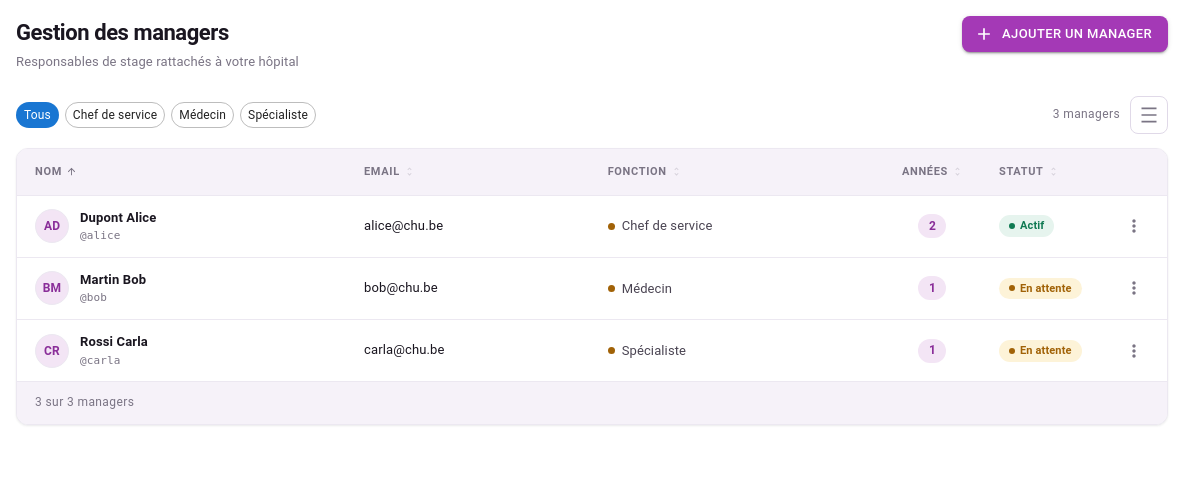
Test case: HospitalAdminManagersPage › 3-dot menu shows 'Renvoyer l'invitation' only for pending managers
Expected: the text "Martin Bob" is shown, [80,271,146,289]
// Bob is index 1 (sorted: Dupont, Martin, Rossi)
Click the button with test id "MoreVertIcon": (1134, 288) [1119,273,1149,303]
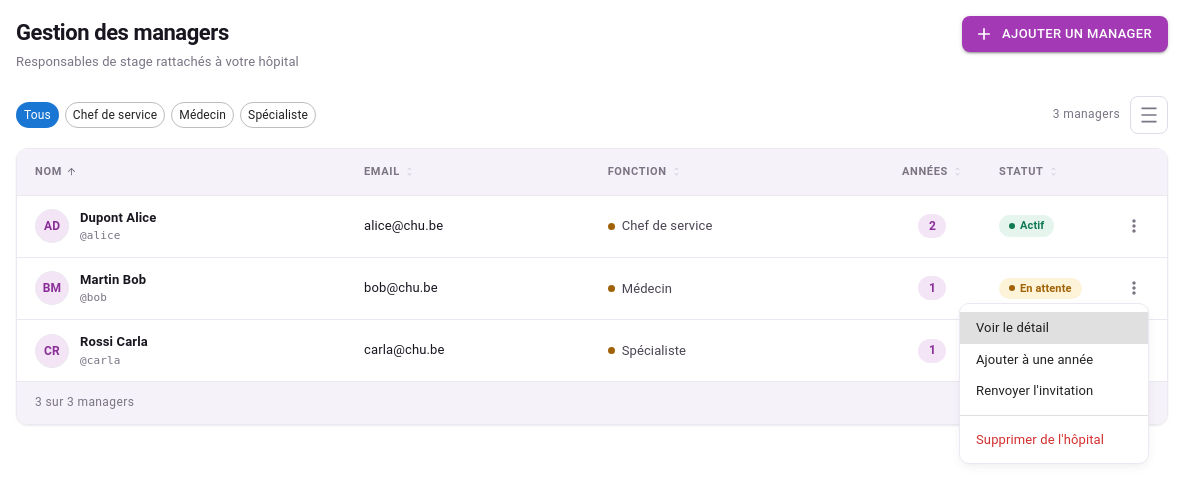
Now the menu item "Renvoyer l'invitation" is shown, box [976,383,1093,398]
